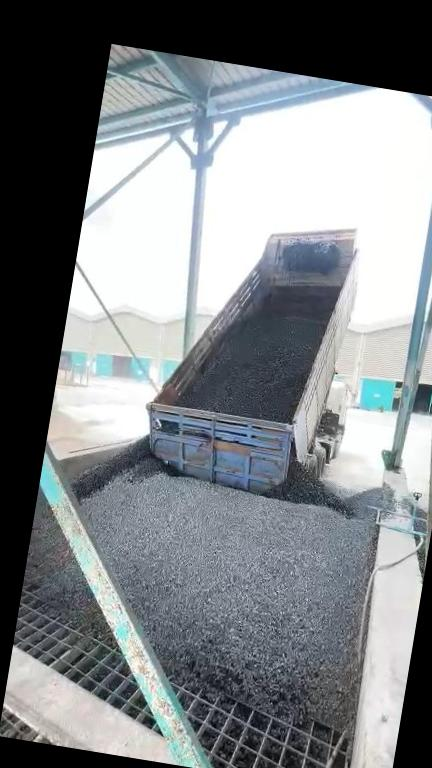gravel: (70, 438, 396, 726), (179, 313, 320, 422), (27, 506, 108, 635)
sand: (47, 407, 113, 455)
